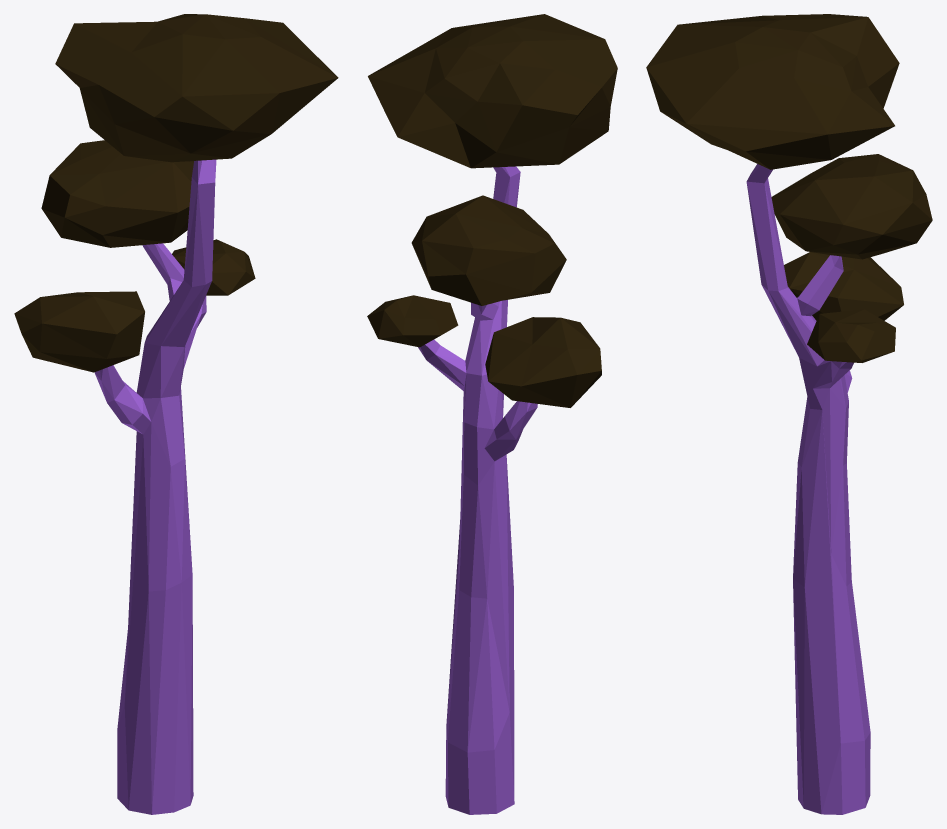
The model's file is tree04.fbx.
The picture shows the model from 3 angles, left to right: view 1: azimuth 30°, elevation 25°; view 2: azimuth 150°, elevation 25°; view 3: azimuth 270°, elevation 25°; orthographic projection. The views are drawn at different scales.
Visible parts, largest first — view 1: Cylinder; view 2: Cylinder; view 3: Cylinder.
Part boxes in pixels (x1,y1,x2,y2): Cylinder: (14,14,338,814); Cylinder: (367,14,617,814); Cylinder: (646,14,932,814).
Bounding box in the file's own units: 1.2 × 3.52 × 1.19.
